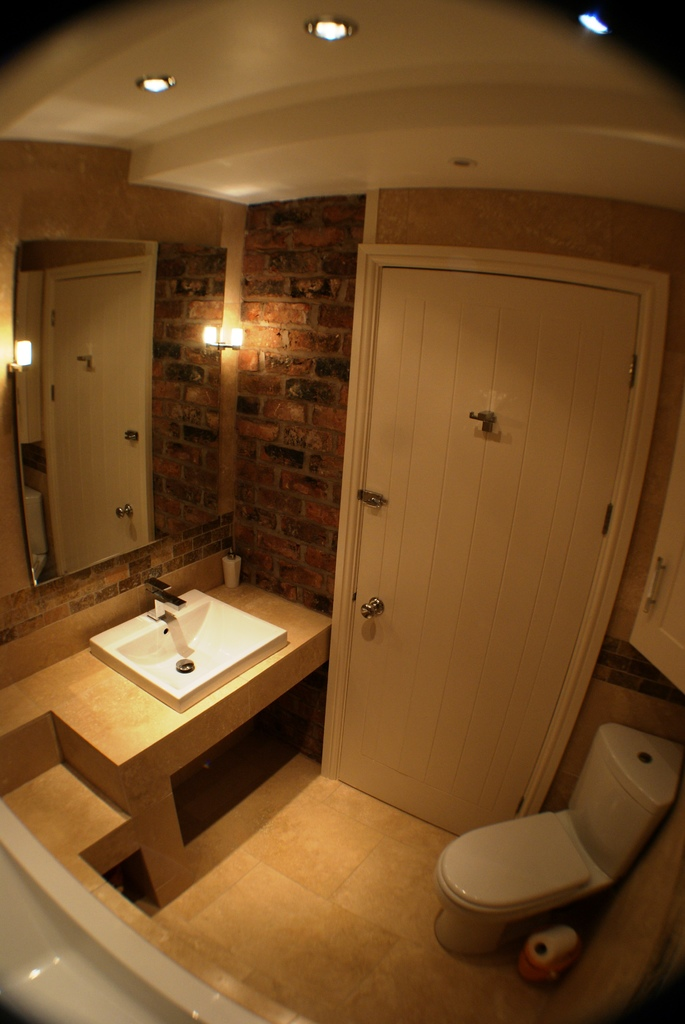tap: (142, 592, 189, 613)
